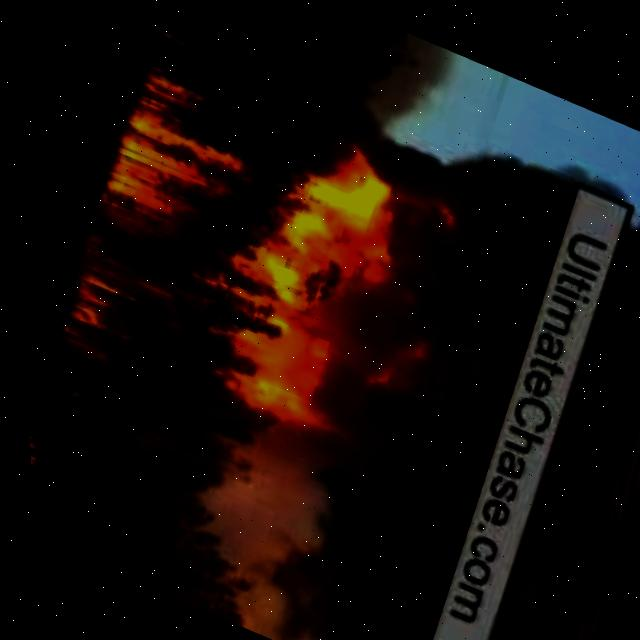Fire: (30, 60, 475, 481), (22, 428, 56, 514)
Smoke: (292, 123, 614, 640), (428, 195, 640, 640)
